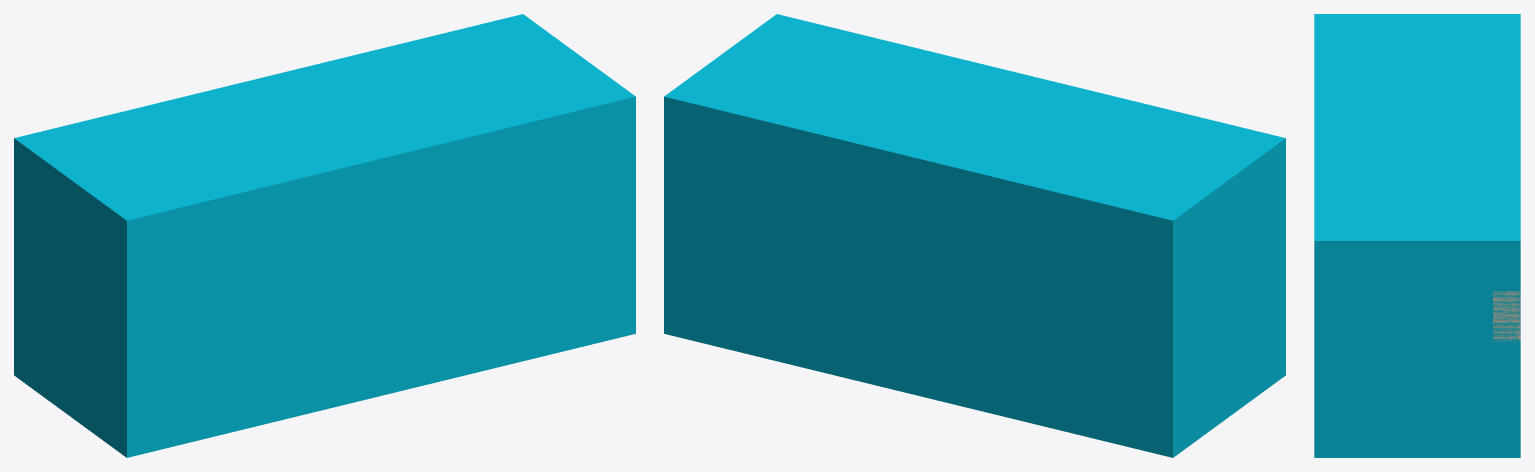
The model's file is furnishingelement-1000-mm.glb.
3 views of the same model, side by side, from view 1: azimuth 30°, elevation 25°; view 2: azimuth 150°, elevation 25°; view 3: azimuth 270°, elevation 25° (orthographic). The views are drawn at different scales.
Visible parts, largest first — view 1: 0BTBFw6f90Nfh9rP1dlXr$; view 2: 0BTBFw6f90Nfh9rP1dlXr$; view 3: 0BTBFw6f90Nfh9rP1dlXr$, 0iEHWY1$XA8eQeeULq4j7w.
Part boxes in pixels (x1,y1,x2,y2): 0BTBFw6f90Nfh9rP1dlXr$: [14, 14, 635, 457]; 0BTBFw6f90Nfh9rP1dlXr$: [664, 14, 1285, 457]; 0BTBFw6f90Nfh9rP1dlXr$: [1314, 14, 1520, 457]; 0iEHWY1$XA8eQeeULq4j7w: [1493, 291, 1520, 341].
Size of the model in its own units: 5.81 by 2.59 by 2.23.
